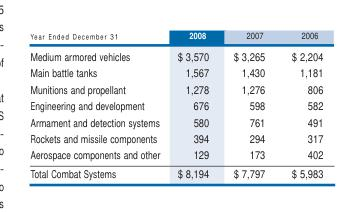table: (29, 28, 322, 180)
table column: (29, 28, 168, 180), (220, 28, 277, 180), (168, 28, 220, 180), (277, 28, 322, 180)
table column header: (29, 28, 322, 44)
table row: (29, 44, 322, 63), (29, 145, 322, 163), (29, 63, 322, 80), (29, 96, 322, 113), (29, 163, 322, 180), (29, 28, 322, 44), (29, 80, 322, 96), (29, 113, 322, 129), (29, 129, 322, 145)
